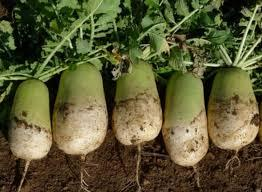radish: (22, 19, 44, 47), (66, 21, 86, 51), (85, 19, 107, 46), (46, 17, 67, 45), (2, 23, 23, 50)
